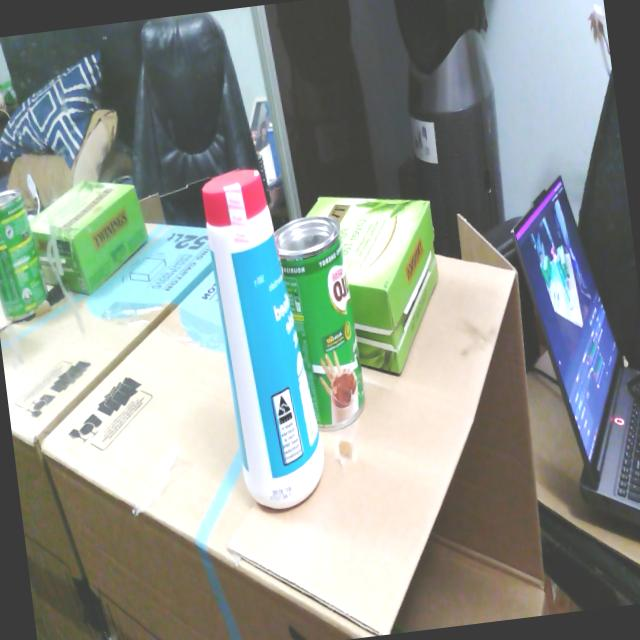nestle_milo_tin: (274, 215, 365, 430)
twinings_greentea_box: (305, 197, 438, 373)
woolworths_salt_bottle: (202, 169, 323, 508)
